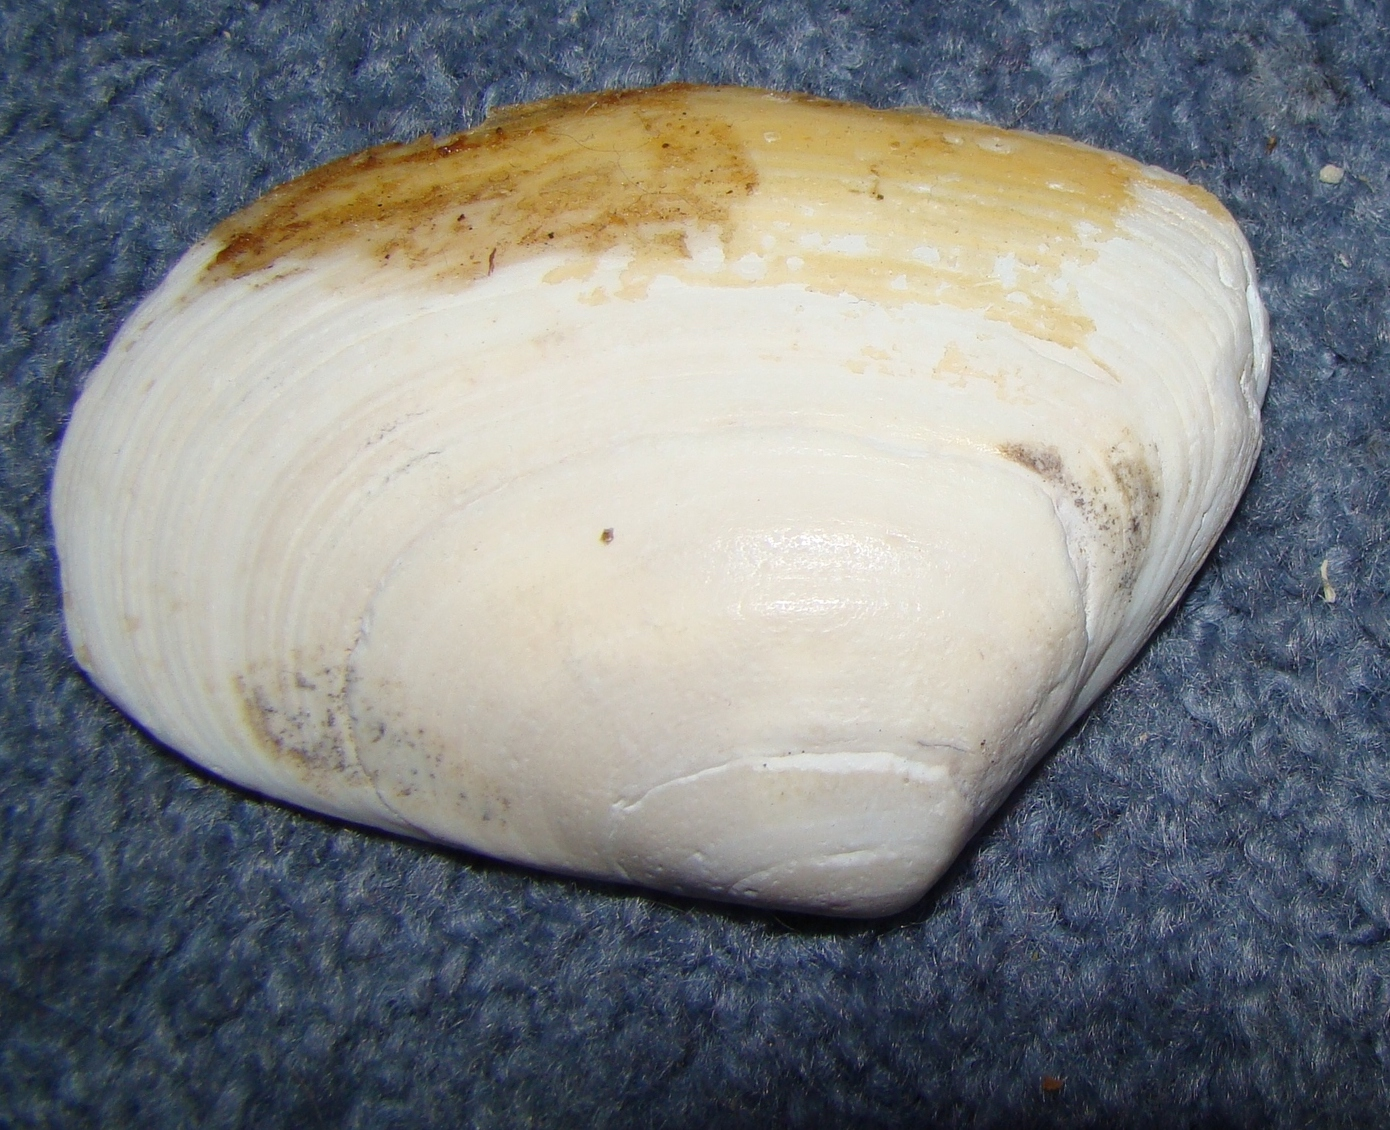tuatua: (54, 80, 1272, 942)
